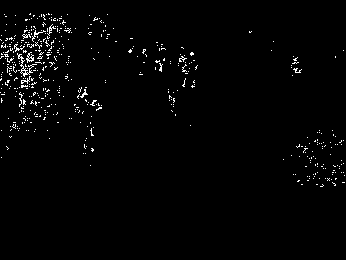person: (74, 86, 101, 155)
